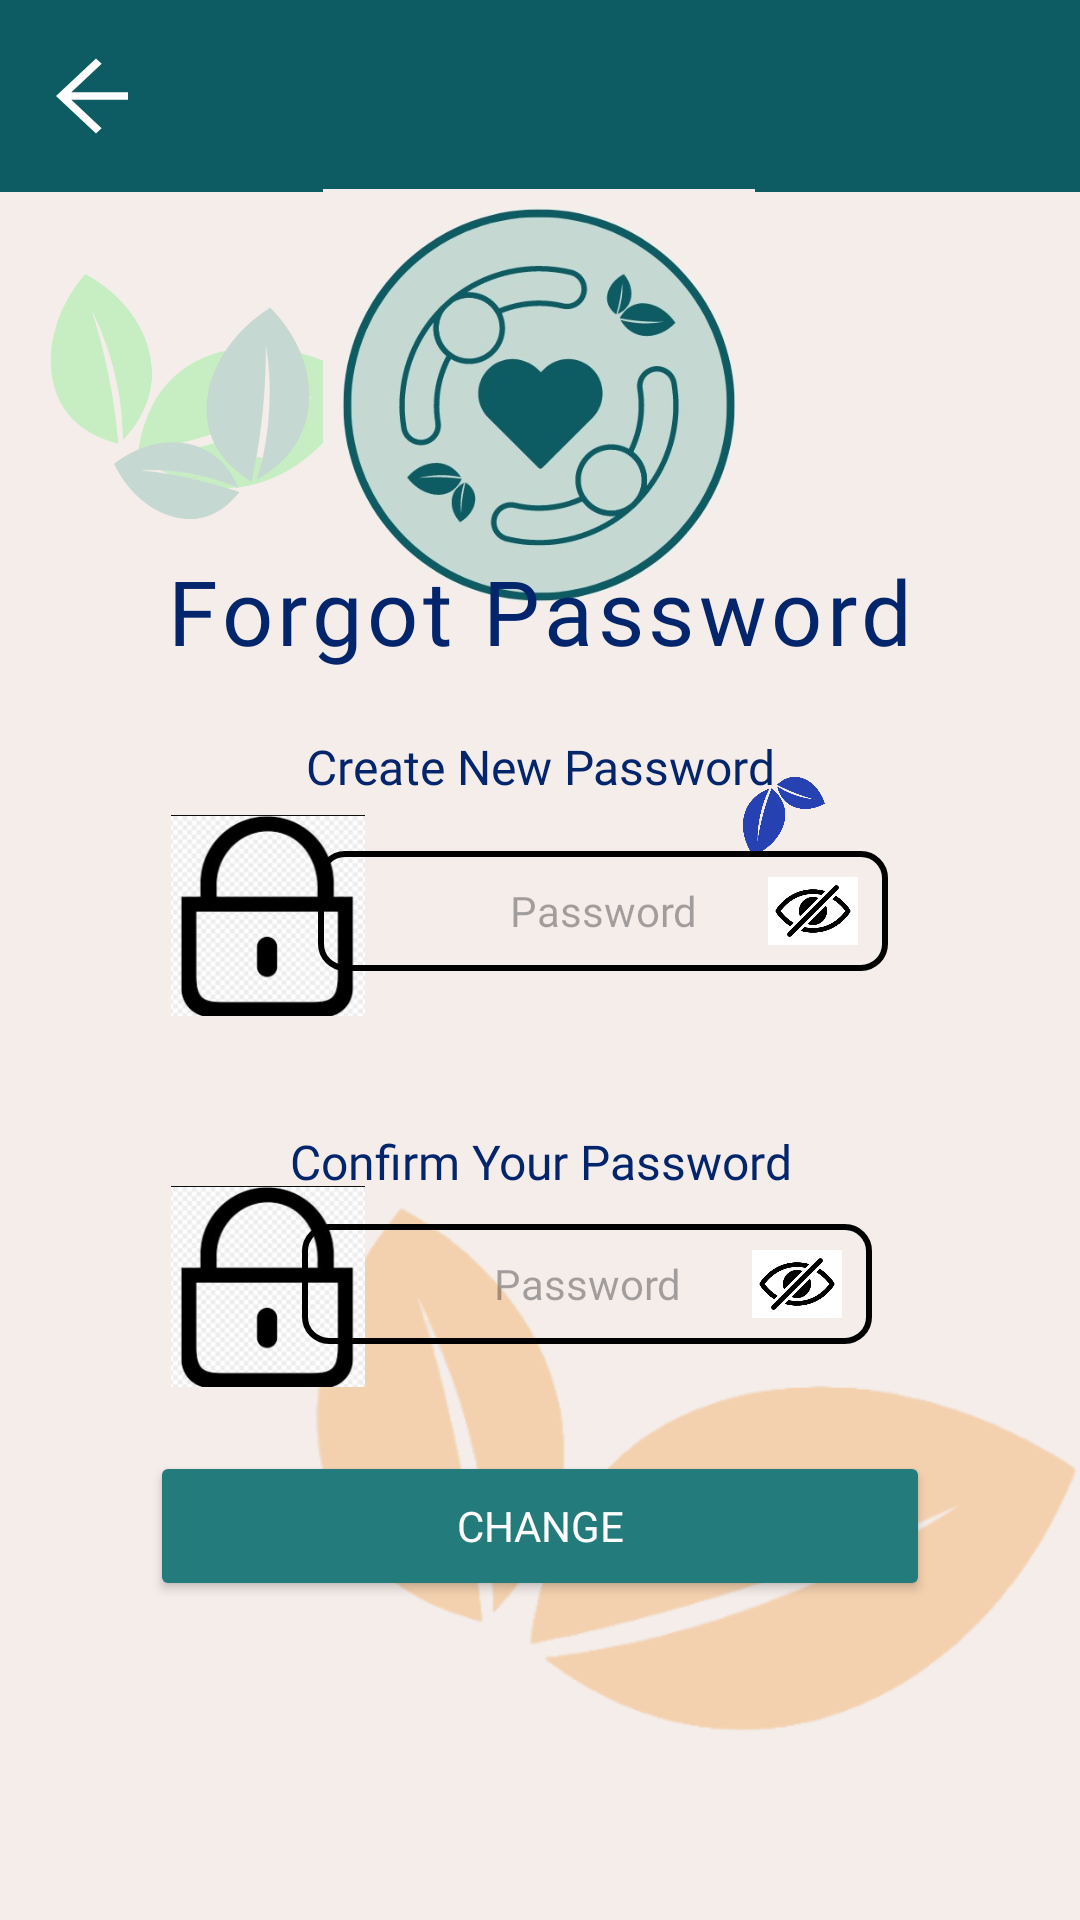

Point at icon controls on the screen. Image size 1080×1920, points as (x=x, y=y).
Back: (x=92, y=96)
hide: (x=813, y=911), (x=797, y=1284)
